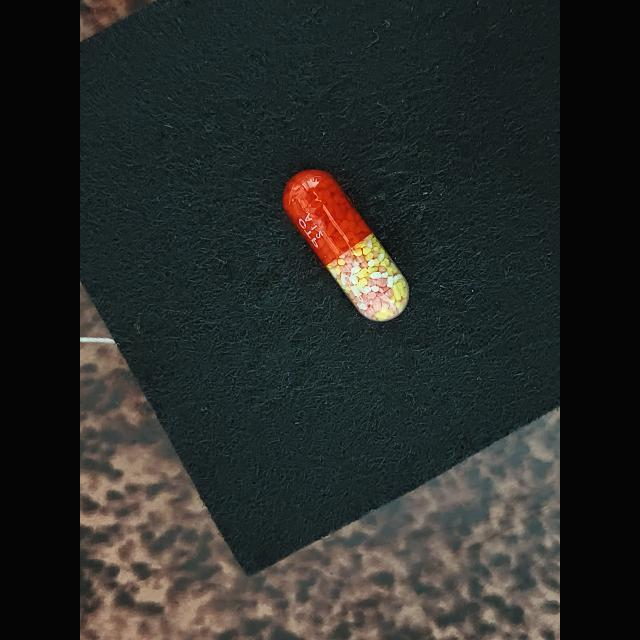Intact Capsule: (282, 169, 409, 321)
